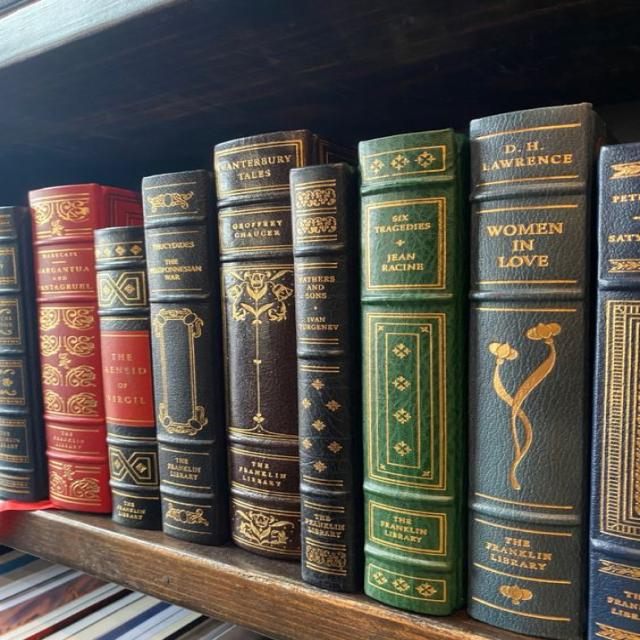book: (467, 109, 586, 639), (357, 130, 454, 615), (214, 129, 305, 561), (142, 170, 219, 544), (583, 140, 640, 640), (289, 163, 352, 590), (29, 184, 106, 512), (93, 222, 161, 528)
